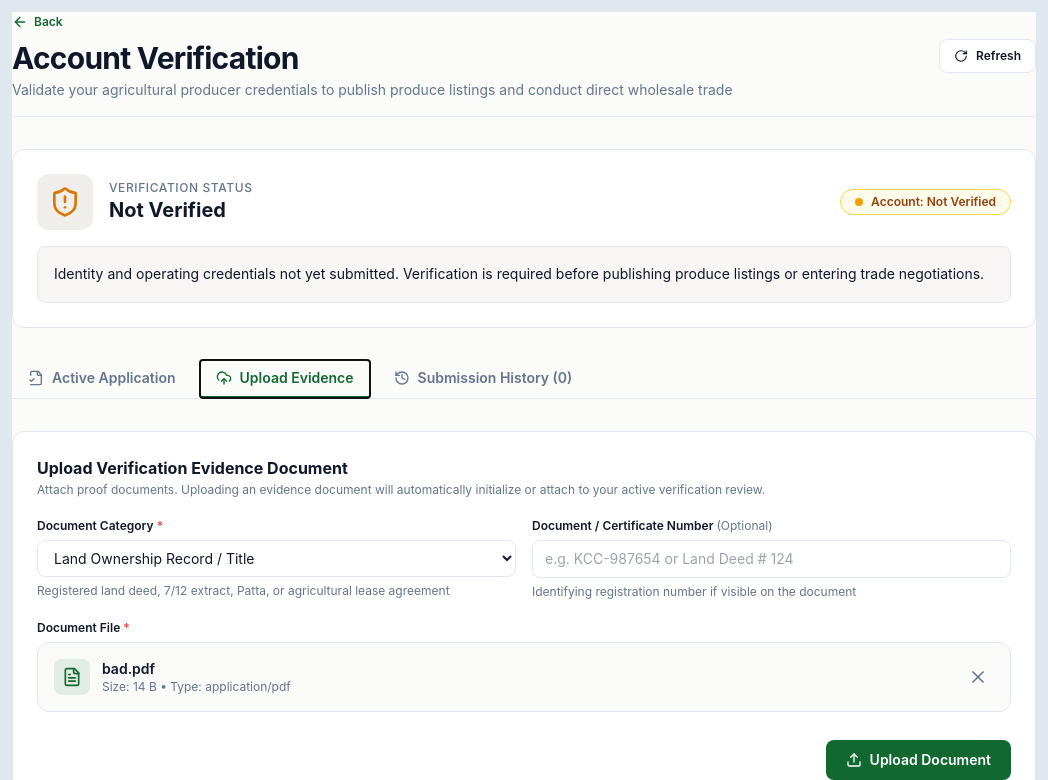
Test case: VerificationPage › handles document upload failure with error alert
The image size is (1048, 780).
Earlier steps of the test are not shown.
Click the button "Upload Document".
click(918, 760)  # box [826,740,1011,779]
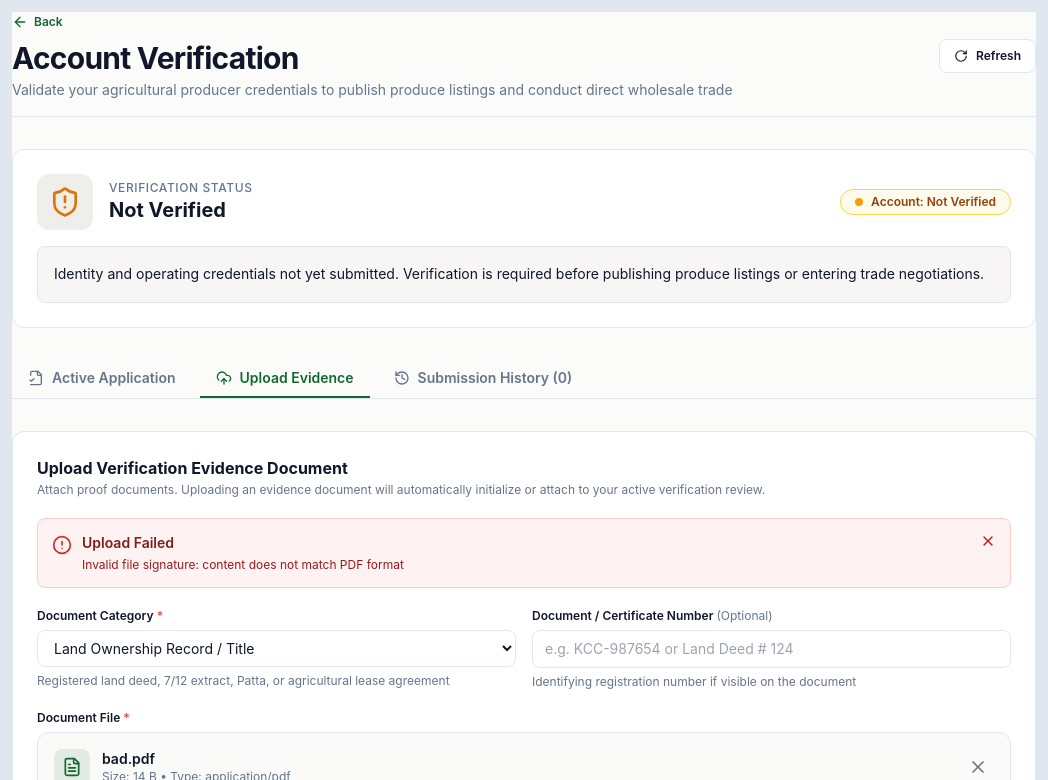
Expected: the text "Invalid file signature: content does not match PDF format" is shown, [82,557,404,572]
